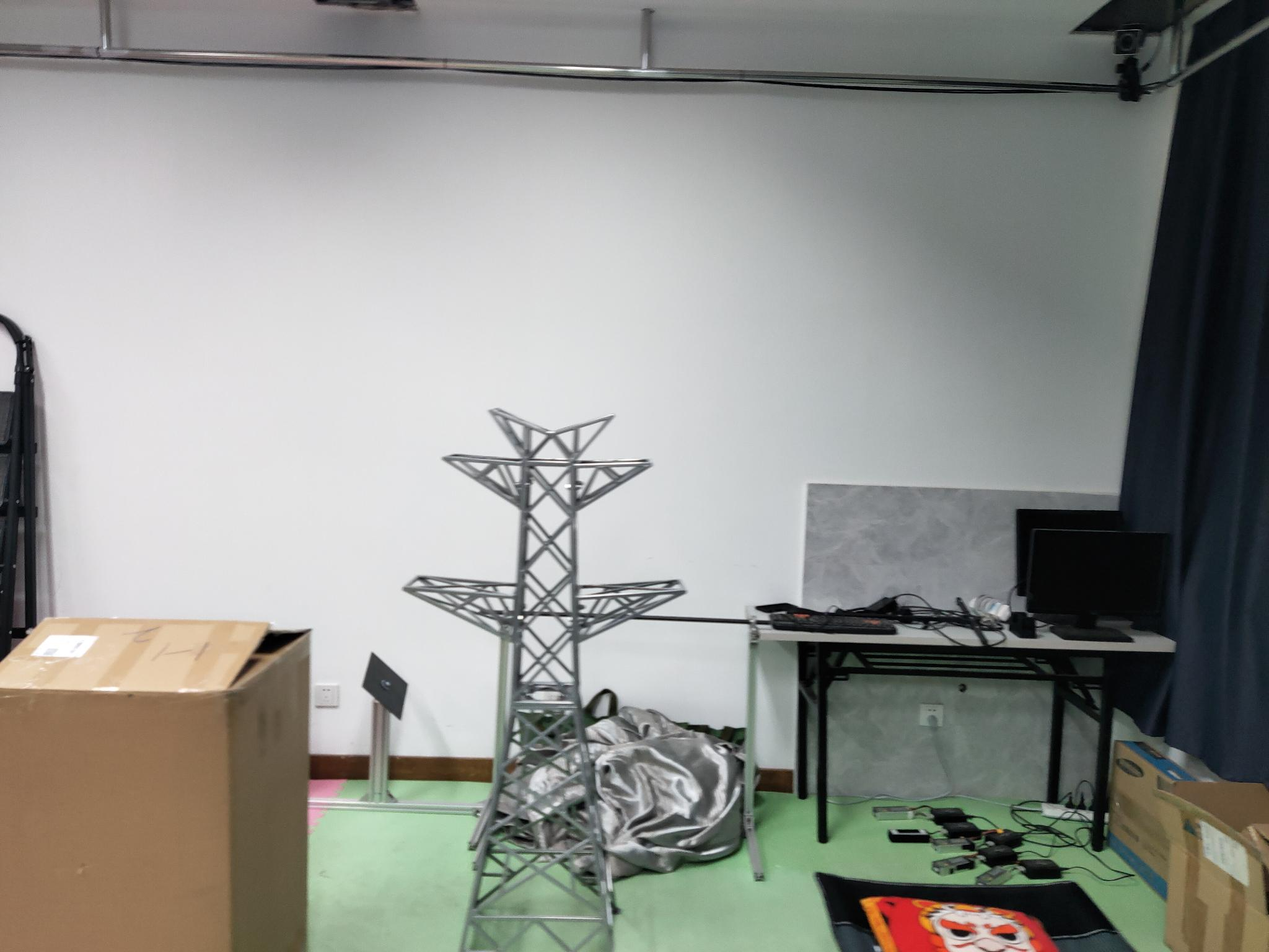tower: (401, 405, 680, 952)
